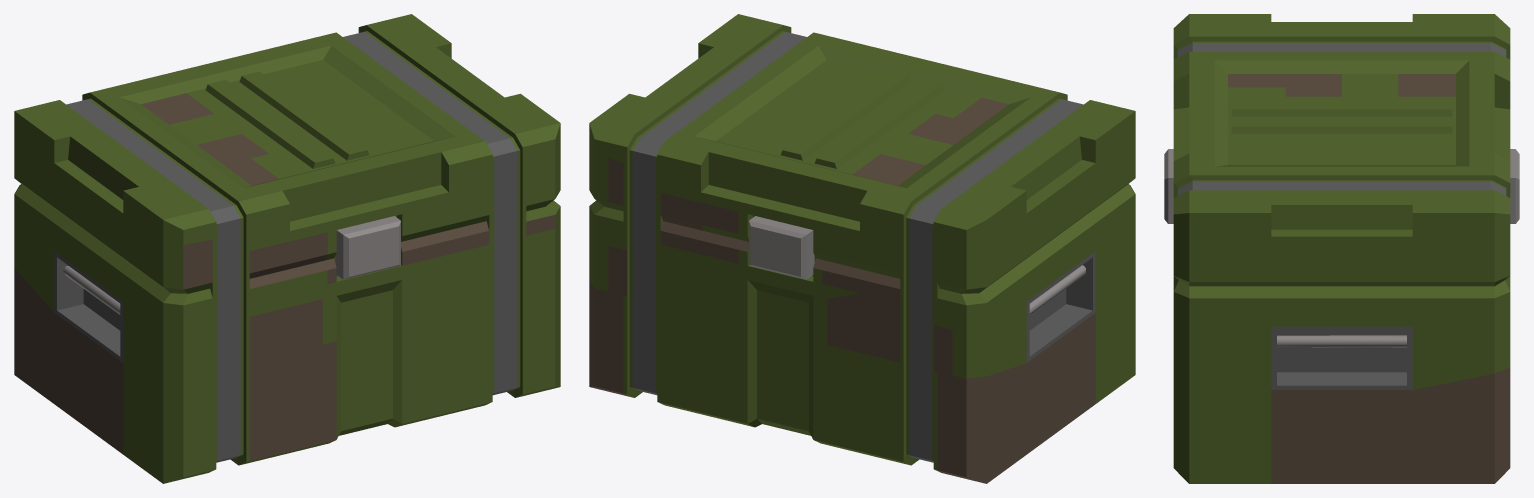
File: ammobox.glb
3 views of the same model, side by side, from view 1: azimuth 30°, elevation 25°; view 2: azimuth 150°, elevation 25°; view 3: azimuth 270°, elevation 25° (orthographic). The views are drawn at different scales.
Visible parts, largest first — view 1: Chest; view 2: Chest; view 3: Chest.
Boxes of the visible parts, box(x1,y1,x2,y2) form: Chest: box(14, 14, 560, 483); Chest: box(589, 14, 1135, 483); Chest: box(1164, 14, 1519, 483).
Size of the model in its own units: 0.6396 by 0.4061 by 0.483.
1 material, 1 textured.
